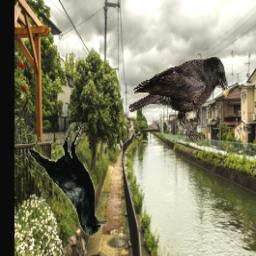Crow: (29, 123, 109, 237), (129, 55, 231, 142)
